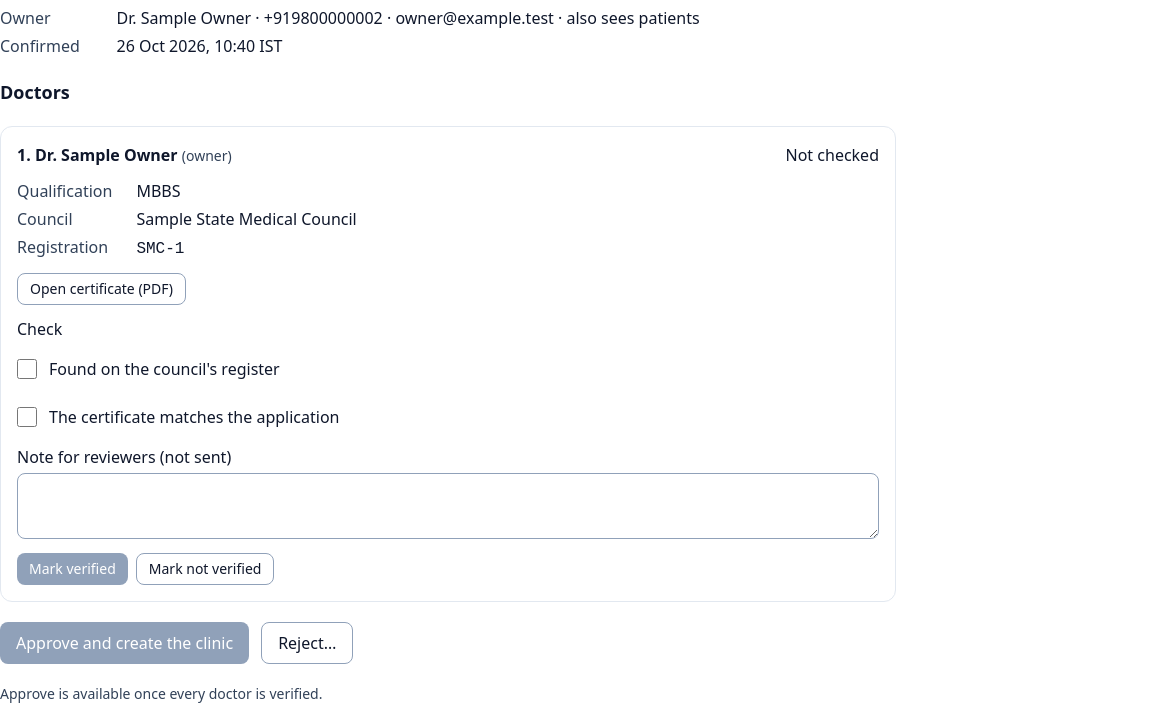
Test: reviewing an application (M6c-P2, P3; clinic-onboarding R26-R44) › rejecting with Other needs a message
The width and height of the screenshot is (1152, 704).
(page scrolled)
Click the button "Reject…" at {"x": 307, "y": 643}, box left=261, top=622, right=353, bottom=664
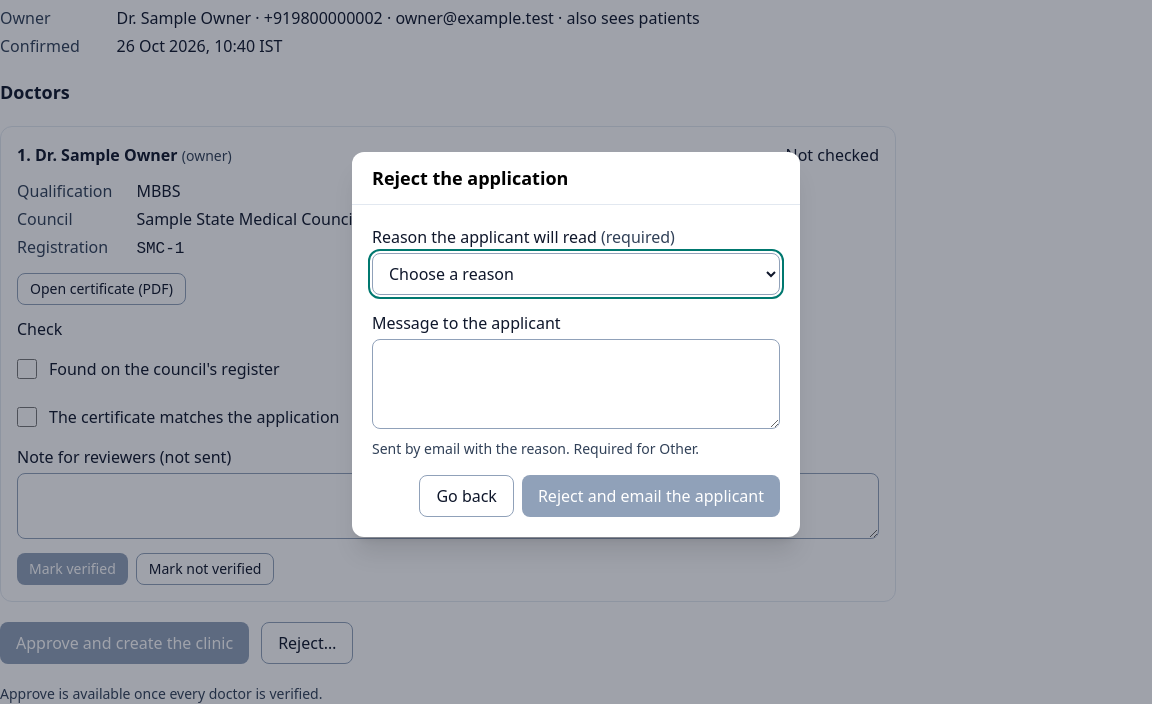
Select "Other (write a message)" in the dropdown labelled "Reason the applicant will read (required)" at {"x": 576, "y": 274}, box left=372, top=252, right=780, bottom=294
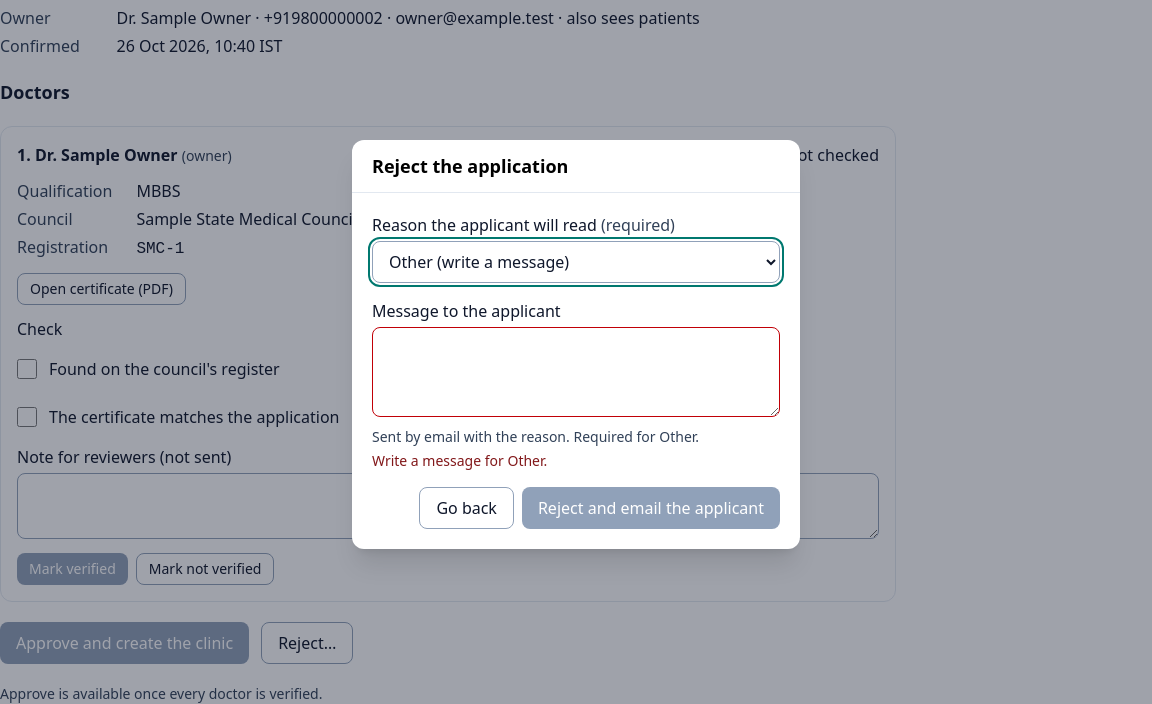
Check: the button "Reject and email the applicant" is disabled, box left=522, top=486, right=780, bottom=528
Check: the text "Write a message for Other." is shown, box left=372, top=450, right=547, bottom=470
